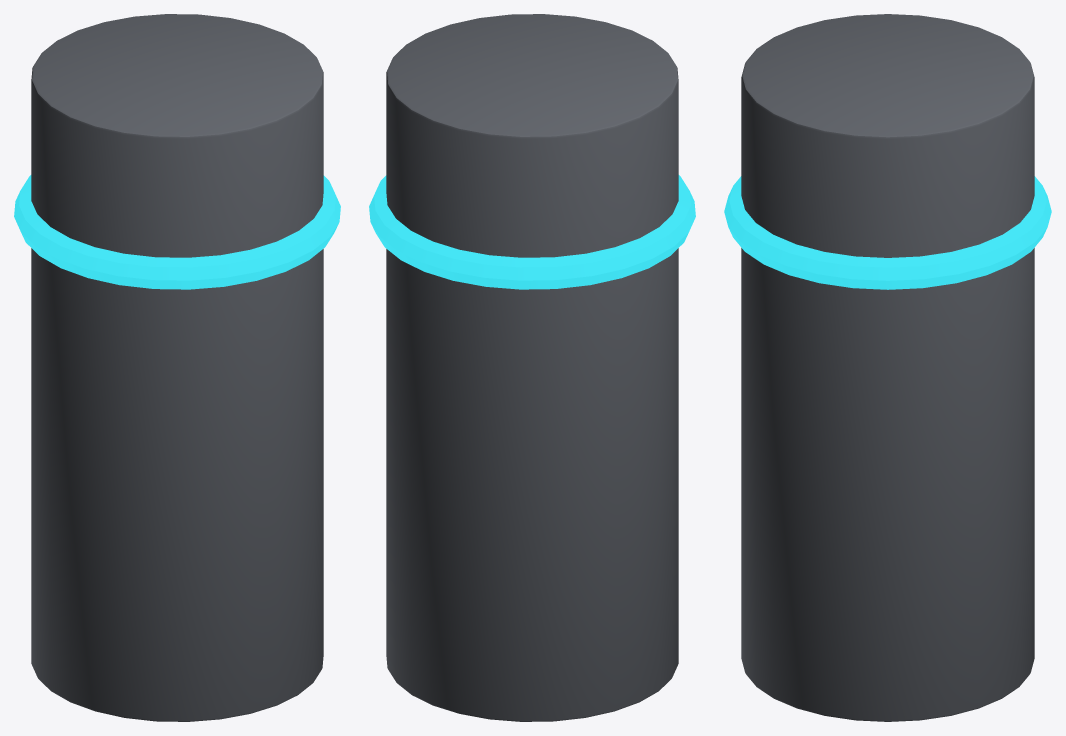
The model's file is canister_spolokh7.glb.
3 renders of one model, left to right at view 1: azimuth 30°, elevation 25°; view 2: azimuth 150°, elevation 25°; view 3: azimuth 270°, elevation 25°, orthographic.
Visible parts, largest first — view 1: canister_spolokh7_body, canister_spolokh7_band; view 2: canister_spolokh7_body, canister_spolokh7_band; view 3: canister_spolokh7_body, canister_spolokh7_band.
Boxes of the visible parts, box(x1,y1,x2,y2) form: canister_spolokh7_body: box(31, 14, 323, 721); canister_spolokh7_band: box(14, 175, 340, 289); canister_spolokh7_body: box(386, 14, 678, 721); canister_spolokh7_band: box(369, 175, 695, 289); canister_spolokh7_body: box(741, 14, 1034, 721); canister_spolokh7_band: box(724, 176, 1051, 289).
Size of the model in its own units: 0.076 by 0.15 by 0.076.
